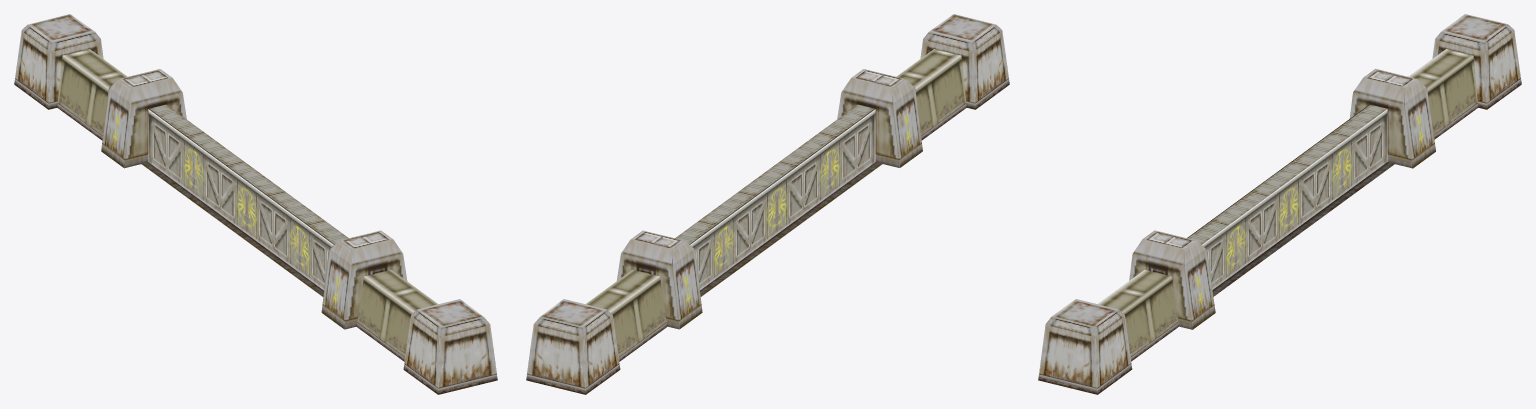
Rendered from d_lightgate.glb.
3 views of the same model, side by side, from view 1: azimuth 30°, elevation 25°; view 2: azimuth 150°, elevation 25°; view 3: azimuth 330°, elevation 25° (orthographic).
Parts seen in each view (by area): view 1: D_LightGate, D_LightGateDoor; view 2: D_LightGate, D_LightGateDoor; view 3: D_LightGate, D_LightGateDoor.
Boxes of the visible parts, bbox=[...] form: D_LightGate: bbox=[14, 14, 497, 394]; D_LightGateDoor: bbox=[148, 104, 348, 290]; D_LightGate: bbox=[526, 14, 1009, 394]; D_LightGateDoor: bbox=[675, 104, 875, 290]; D_LightGate: bbox=[1038, 14, 1521, 394]; D_LightGateDoor: bbox=[1187, 104, 1387, 289].
Size of the model in its own units: 5.14 by 5.69 by 55.76.
2 materials, 2 textured.
